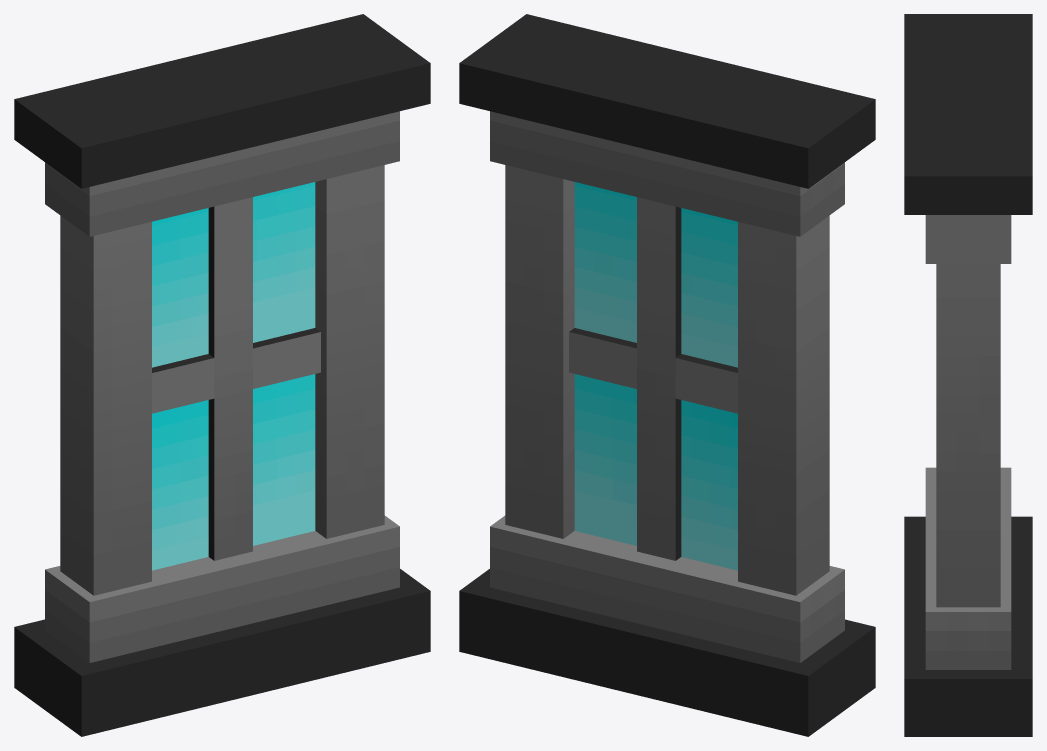
Rendered from mado.fbx.
3 views of the same model, side by side, from view 1: azimuth 30°, elevation 25°; view 2: azimuth 150°, elevation 25°; view 3: azimuth 270°, elevation 25° (orthographic). The views are drawn at different scales.
Visible parts, largest first — view 1: cuboid_9, cuboid_3, cuboid_10, cuboid, cuboid_2, cuboid_8, cuboid_1, cuboid_7, cuboid_4, cuboid_6, cuboid_5; view 2: cuboid_9, cuboid_3, cuboid_10, cuboid, cuboid_2, cuboid_8, cuboid_1, cuboid_7, cuboid_4, cuboid_6, cuboid_5; view 3: cuboid_9, cuboid_2, cuboid_10, cuboid, cuboid_1.
Part boxes in pixels (x1,y1,x2,y2): cuboid_9: (14,14,430,188); cuboid_3: (60,215,151,595); cuboid_10: (14,569,430,736); cuboid: (45,515,399,662); cuboid_2: (315,165,384,538); cuboid_8: (152,374,315,570); cuboid_1: (45,111,399,236); cuboid_7: (152,182,315,367); cuboid_4: (208,197,252,560); cuboid_6: (253,328,320,388); cuboid_5: (152,354,214,413); cuboid_9: (459,14,875,188); cuboid_3: (738,215,829,595); cuboid_10: (459,569,875,736); cuboid: (490,515,844,662); cuboid_2: (505,165,574,538); cuboid_8: (574,374,737,570); cuboid_1: (490,111,844,236); cuboid_7: (574,182,737,367); cuboid_4: (637,197,681,560); cuboid_6: (569,328,636,388); cuboid_5: (675,354,737,413); cuboid_9: (904,14,1032,214); cuboid_2: (936,264,1000,607); cuboid_10: (904,516,1032,736); cuboid: (925,467,1011,669); cuboid_1: (925,215,1011,263).
Size of the model in its own units: 112 by 181 by 37.5.
